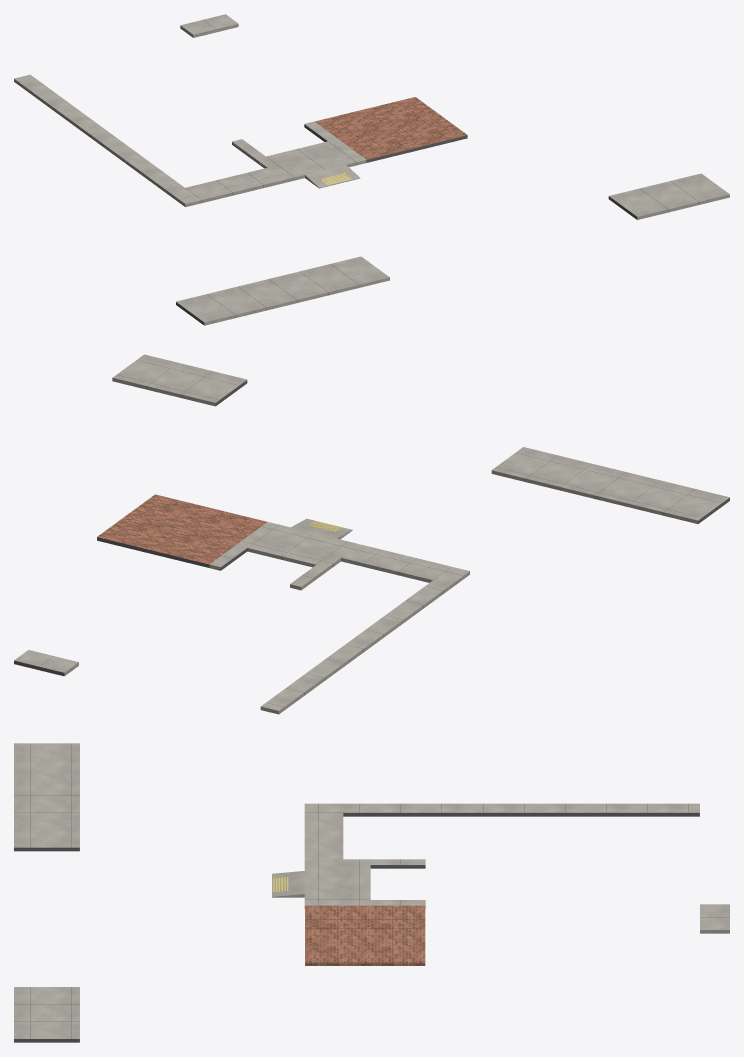
File: walks.glb
3 renders of one model, top to bottom at view 1: azimuth 30°, elevation 25°; view 2: azimuth 150°, elevation 25°; view 3: azimuth 270°, elevation 25°, orthographic. The views are drawn at different scales.
Parts seen in each view (by area): view 1: walks_concrete, walks_paver, walks_dark; view 2: walks_concrete, walks_paver, walks_dark; view 3: walks_concrete, walks_paver, walks_dark.
Boxes of the visible parts, <box> form: walks_concrete: <box>14,14,729,325</box>; walks_paver: <box>315,97,467,159</box>; walks_dark: <box>54,108,699,325</box>; walks_concrete: <box>14,354,729,714</box>; walks_paver: <box>97,494,267,564</box>; walks_dark: <box>14,380,729,695</box>; walks_concrete: <box>14,743,729,1042</box>; walks_paver: <box>305,905,425,965</box>; walks_dark: <box>14,744,699,1042</box>.
Size of the model in its own units: 25.5 by 0.15 by 26.1.
Materials: 4 (2 with a texture image).
